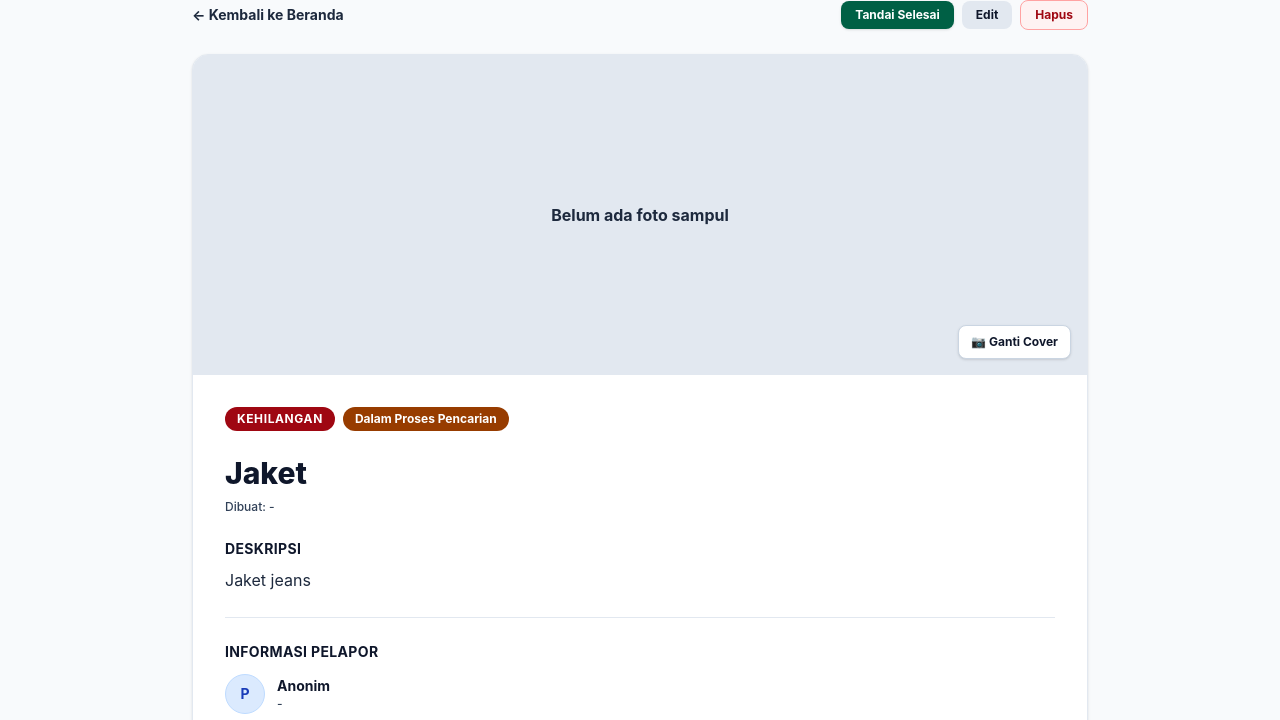
DetailPage › should open and close ChangeModal and ChangeCoverModal
// Open Edit modal
Click the button "Edit". click: {"x": 987, "y": 15}
box: x1=962 y1=1 x2=1012 y2=29
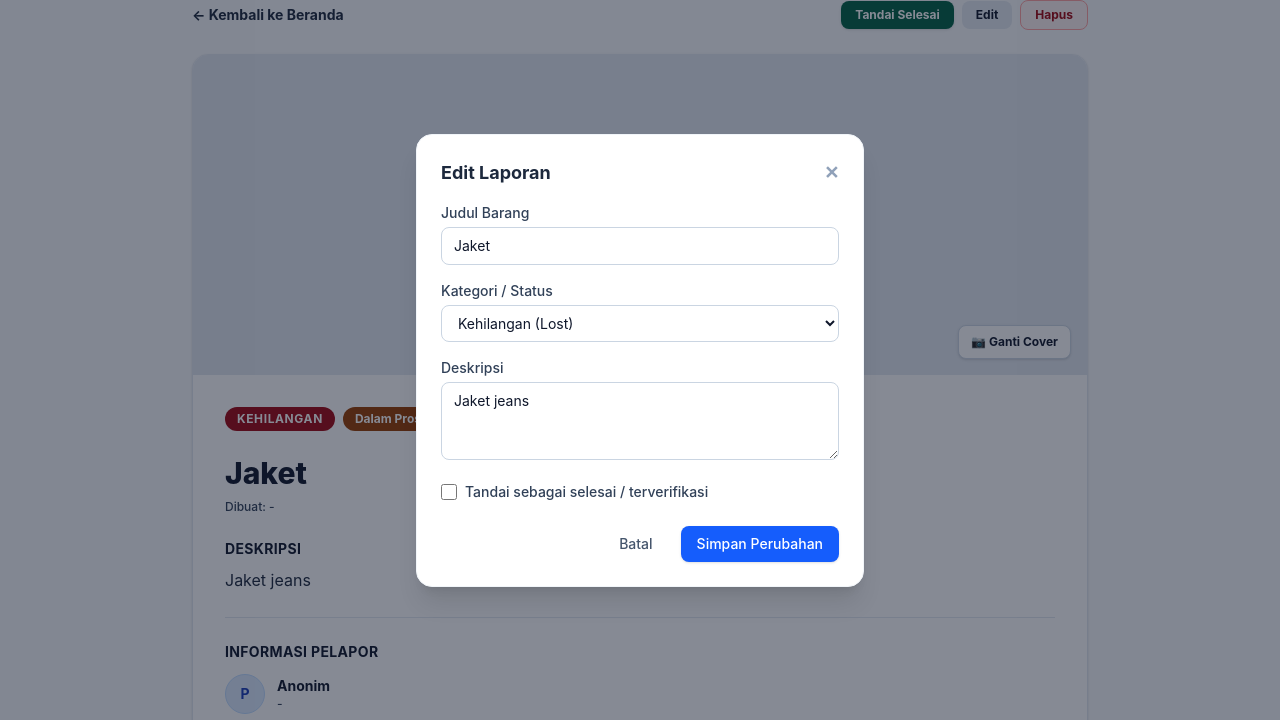
Check: the heading "Edit Laporan" is shown, box x1=441 y1=158 x2=551 y2=186
Click the button "Batal". click: {"x": 636, "y": 544}
box: x1=603 y1=526 x2=669 y2=562
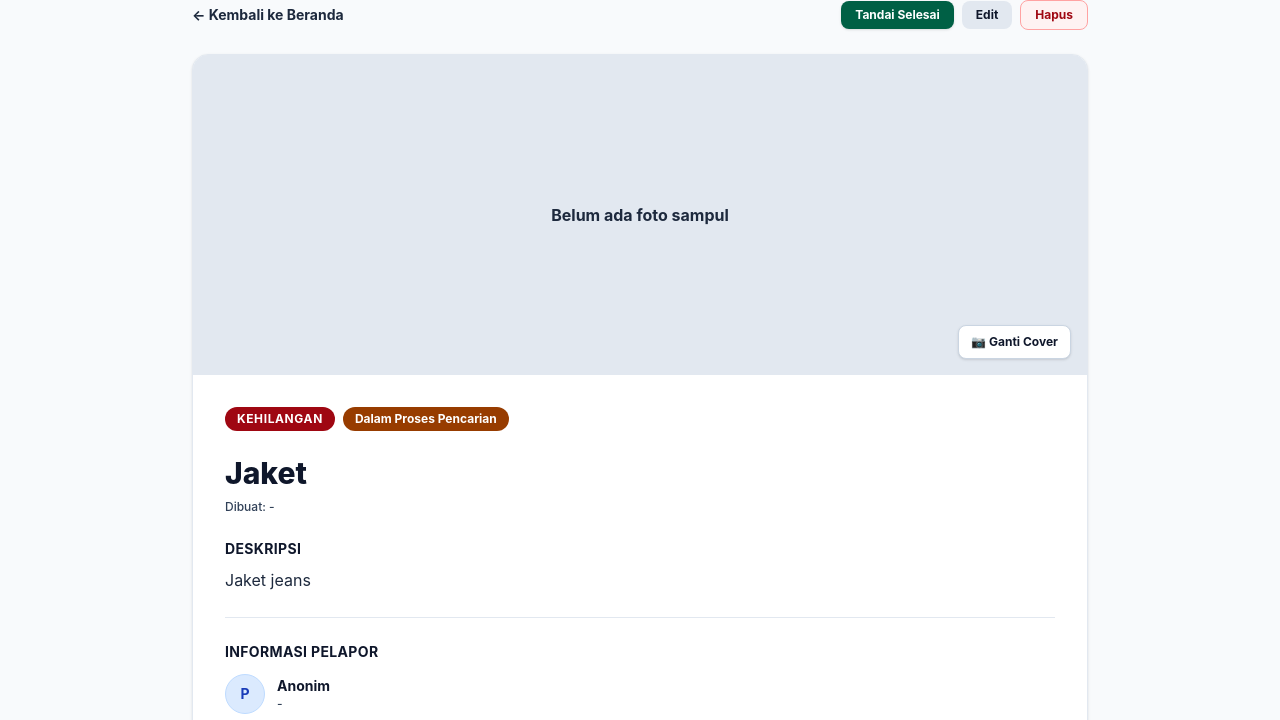
Check: the heading "Edit Laporan" is gone
// Open ChangeCover modal
Click the button "📷 Ganti Cover". click: {"x": 1015, "y": 342}
box: x1=958 y1=325 x2=1071 y2=359
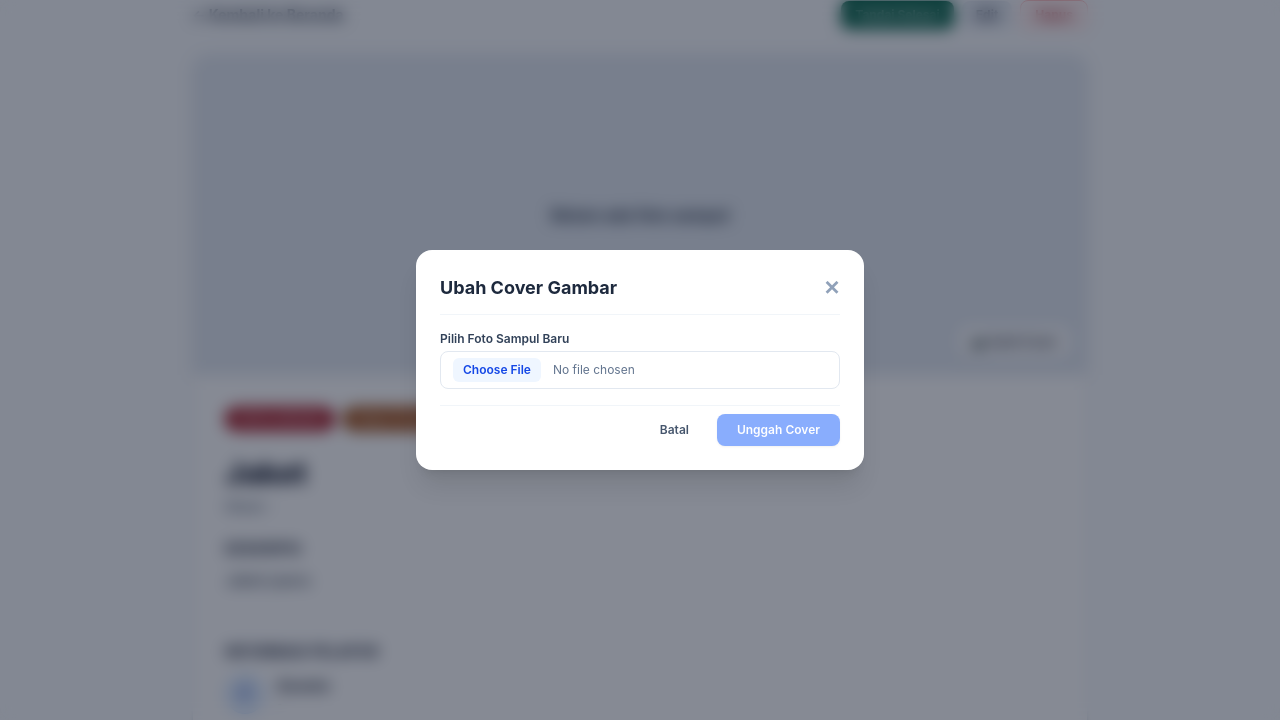
Check: the heading "Ubah Cover Gambar" is shown, box x1=440 y1=274 x2=617 y2=302
Click the button "Batal". click: {"x": 674, "y": 430}
box: x1=644 y1=414 x2=705 y2=446
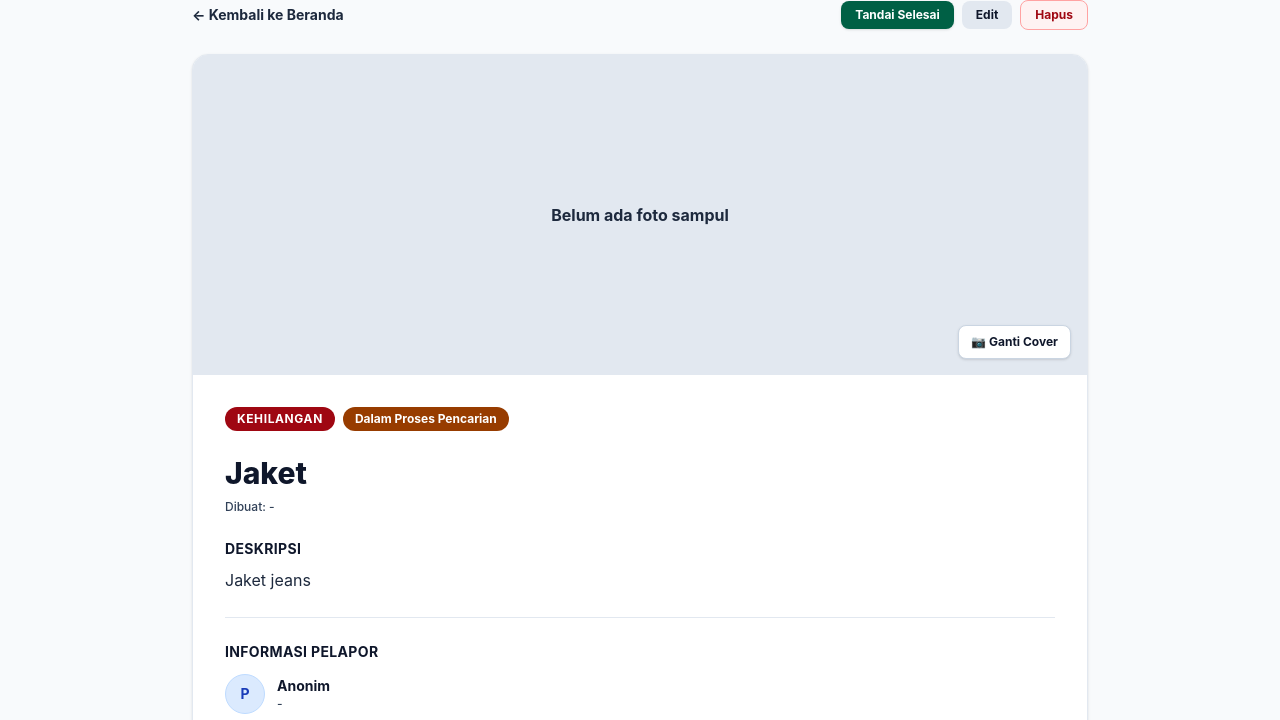
Check: the heading "Ubah Cover Gambar" is gone
